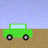vehicle: (3, 24, 32, 40)
